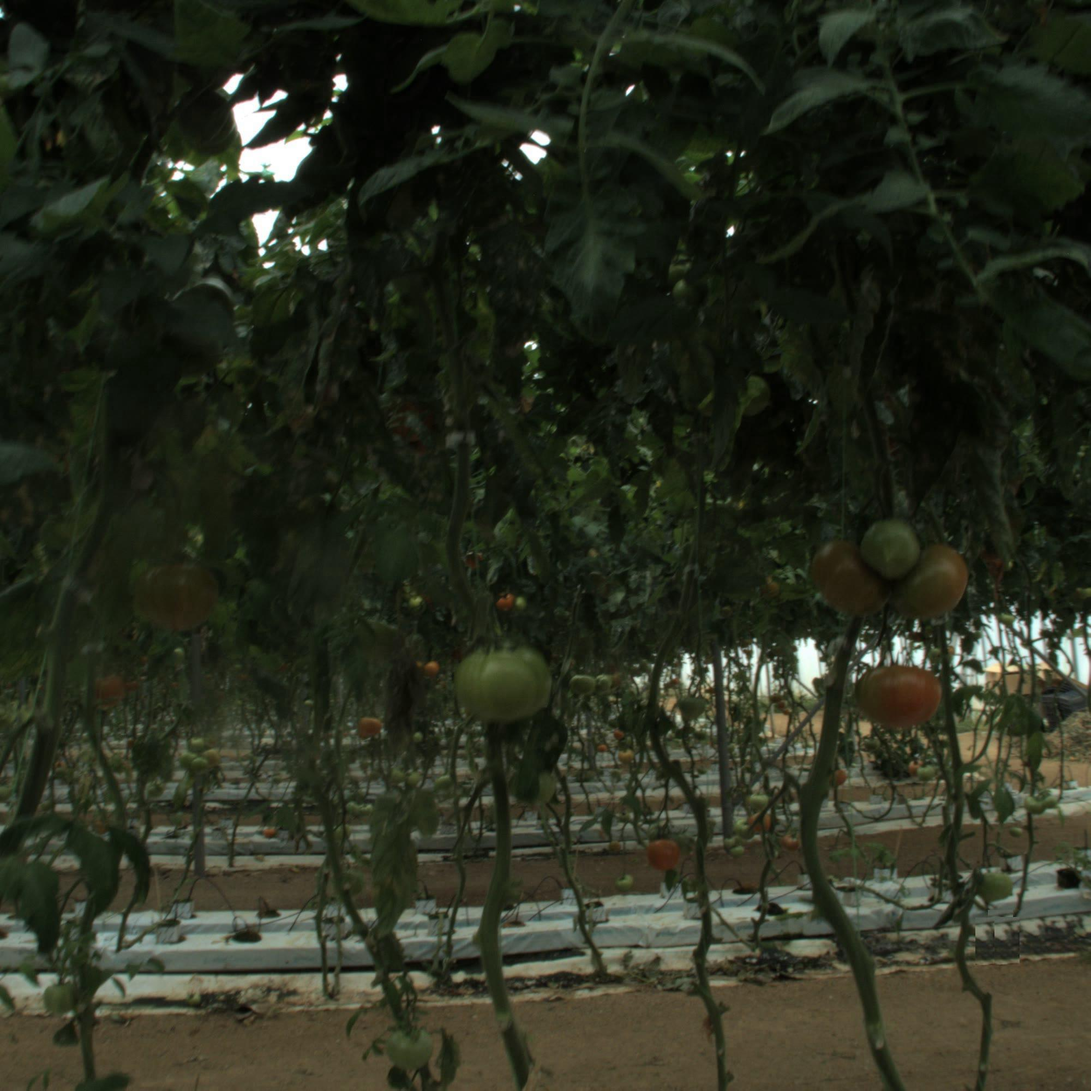fully-ripe: (859, 646, 942, 729), (644, 836, 682, 874)
semi-ripe: (885, 537, 968, 620), (812, 530, 895, 613)
unripe: (457, 635, 549, 727), (141, 557, 215, 631), (861, 521, 918, 578), (387, 1023, 435, 1071), (976, 867, 1014, 905)
